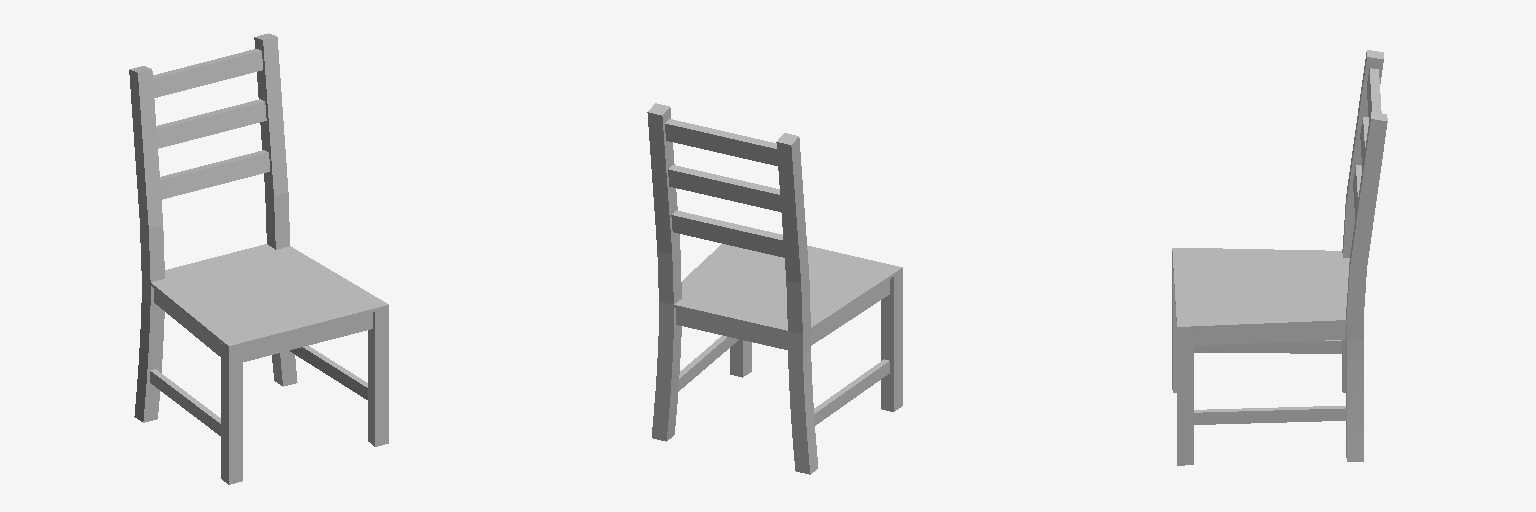
File: Chair.obj
3 views of the same model, side by side, from view 1: azimuth 30°, elevation 25°; view 2: azimuth 150°, elevation 25°; view 3: azimuth 270°, elevation 25° (orthographic).
Parts seen in each view (by area): view 1: Seat, Leg3, Leg4, Leg2, Leg1, Rest3, Rest1, Rest2, Upper_Link1, Lower_Link1, Lower_Link2, Upper_Link3; view 2: Seat, Leg3, Leg4, Leg2, Rest2, Rest1, Rest3, Upper_Link4, Lower_Link1, Upper_Link3, Lower_Link2, Leg1; view 3: Seat, Leg4, Upper_Link2, Lower_Link2, Leg1, Leg3, Lower_Link1, Rest1, Leg2.
Boxes of the visible parts, <box> form: Seat: <box>151,244,388,348</box>; Leg3: <box>129,66,164,422</box>; Leg4: <box>254,33,297,386</box>; Leg2: <box>221,343,242,484</box>; Leg1: <box>368,308,388,446</box>; Rest3: <box>160,150,269,199</box>; Rest1: <box>153,49,262,97</box>; Rest2: <box>156,99,266,148</box>; Upper_Link1: <box>243,312,372,361</box>; Lower_Link1: <box>150,369,220,435</box>; Lower_Link2: <box>290,346,367,399</box>; Upper_Link3: <box>154,289,220,356</box>; Seat: <box>674,244,902,333</box>; Leg3: <box>776,133,817,474</box>; Leg4: <box>647,103,681,441</box>; Leg2: <box>881,271,902,411</box>; Rest2: <box>668,165,780,211</box>; Rest1: <box>665,119,777,165</box>; Rest3: <box>671,210,784,257</box>; Upper_Link4: <box>676,308,787,349</box>; Lower_Link1: <box>814,359,889,425</box>; Upper_Link3: <box>811,279,889,345</box>; Lower_Link2: <box>678,335,738,391</box>; Leg1: <box>730,339,751,377</box>; Seat: <box>1172,248,1349,329</box>; Leg4: <box>1346,112,1387,461</box>; Upper_Link2: <box>1194,323,1345,345</box>; Lower_Link2: <box>1194,406,1346,424</box>; Leg1: <box>1177,329,1193,465</box>; Leg3: <box>1342,50,1383,392</box>; Lower_Link1: <box>1194,340,1341,353</box>; Rest1: <box>1367,68,1381,118</box>; Leg2: <box>1172,254,1176,392</box>.
Bounding box in the file's own units: 21.84 × 43.24 × 24.86.